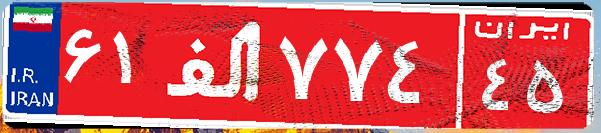1: (110, 28, 158, 105)
4: (385, 28, 445, 110), (475, 38, 525, 113)
5: (525, 38, 570, 115)
6: (57, 26, 110, 107)
7: (273, 28, 330, 110), (330, 28, 385, 110)
الف: (158, 15, 273, 115)
